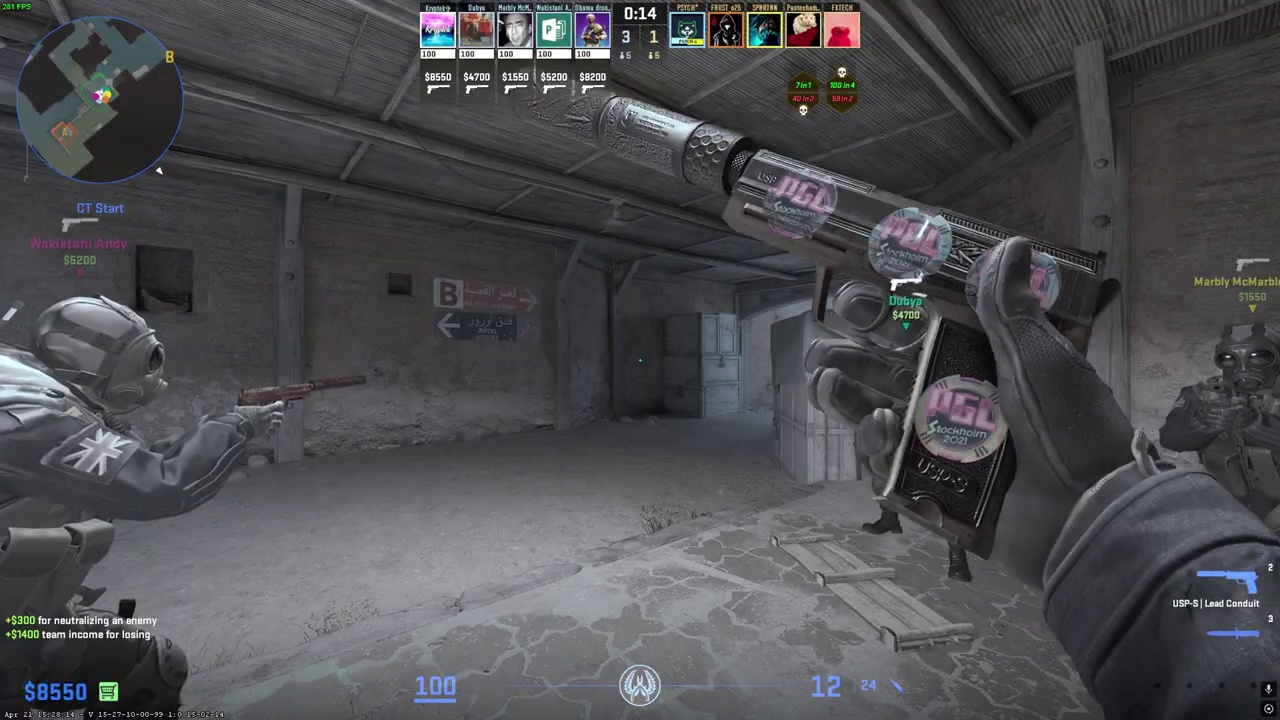CT: (0, 293, 210, 720), (1168, 321, 1280, 540)
